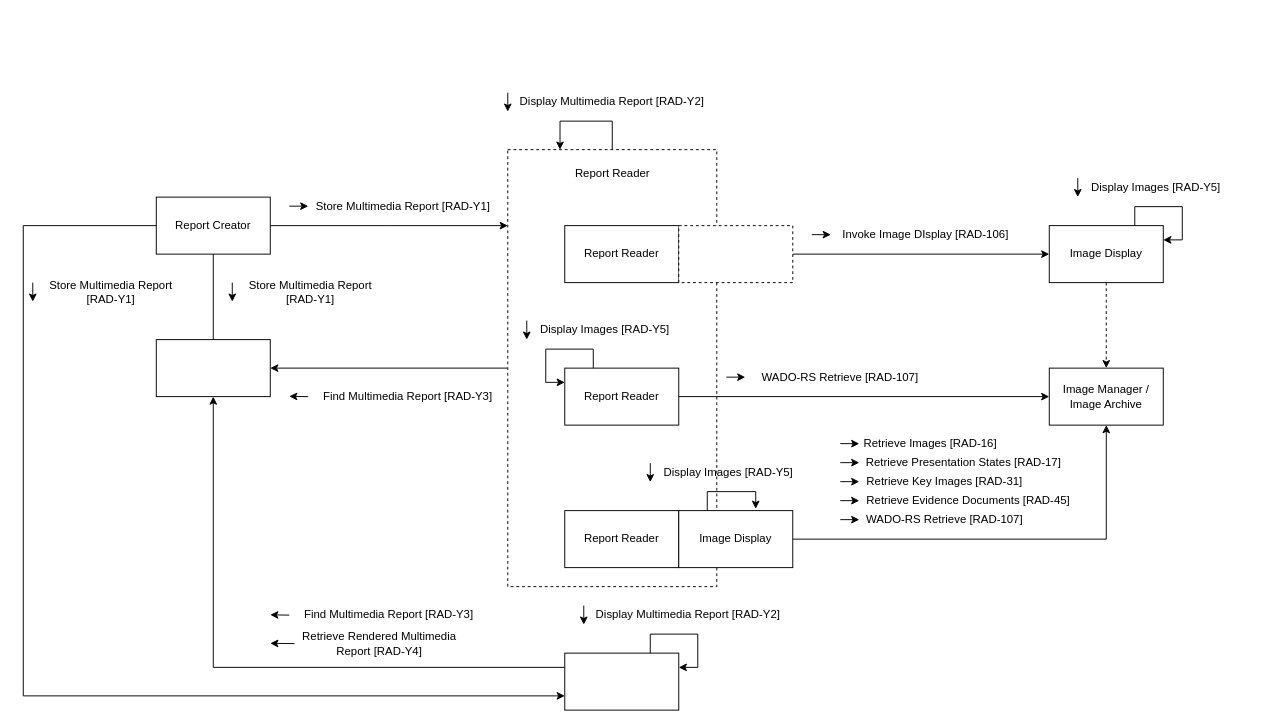
Some shapes in this 1284 by 727 pixel diagram are drawn without their labels. The shapes that lost their labels are listed below. From the top down, each one's box as (x1, y1, x2, y2) in pixels, then its label:
(678, 225, 793, 283): Image Display Invoker
(155, 339, 270, 397): Report Repository
(564, 652, 679, 710): Rendered Report Reader
